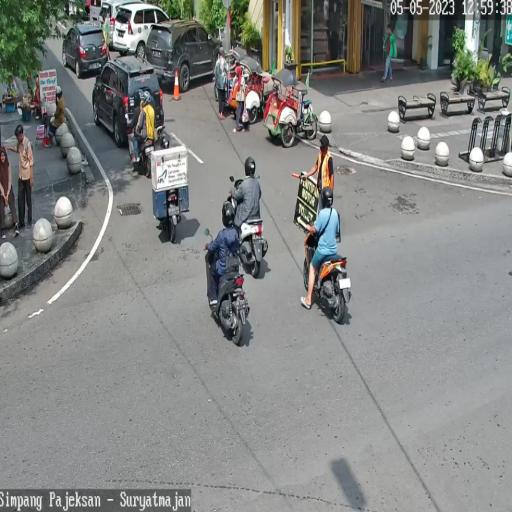mobil: (92, 56, 164, 150), (146, 20, 224, 93), (113, 4, 171, 58), (62, 24, 108, 79)
motor: (202, 227, 252, 350), (302, 222, 352, 328), (229, 174, 270, 282), (150, 145, 190, 244), (128, 107, 154, 183)
